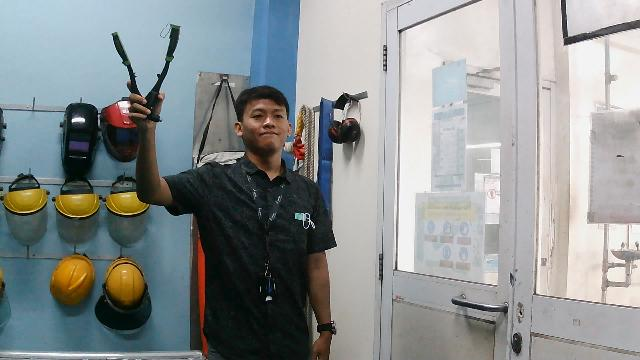tang_rivet: (105, 20, 186, 126)
